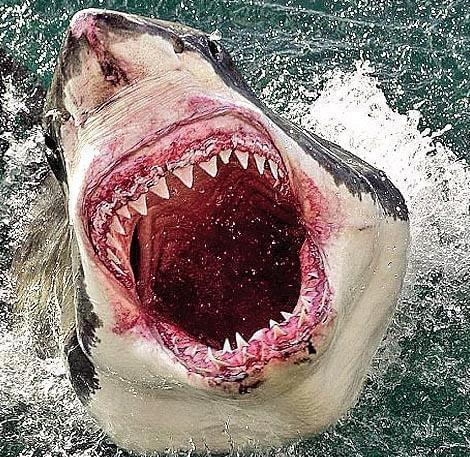shark: (25, 6, 428, 457)
